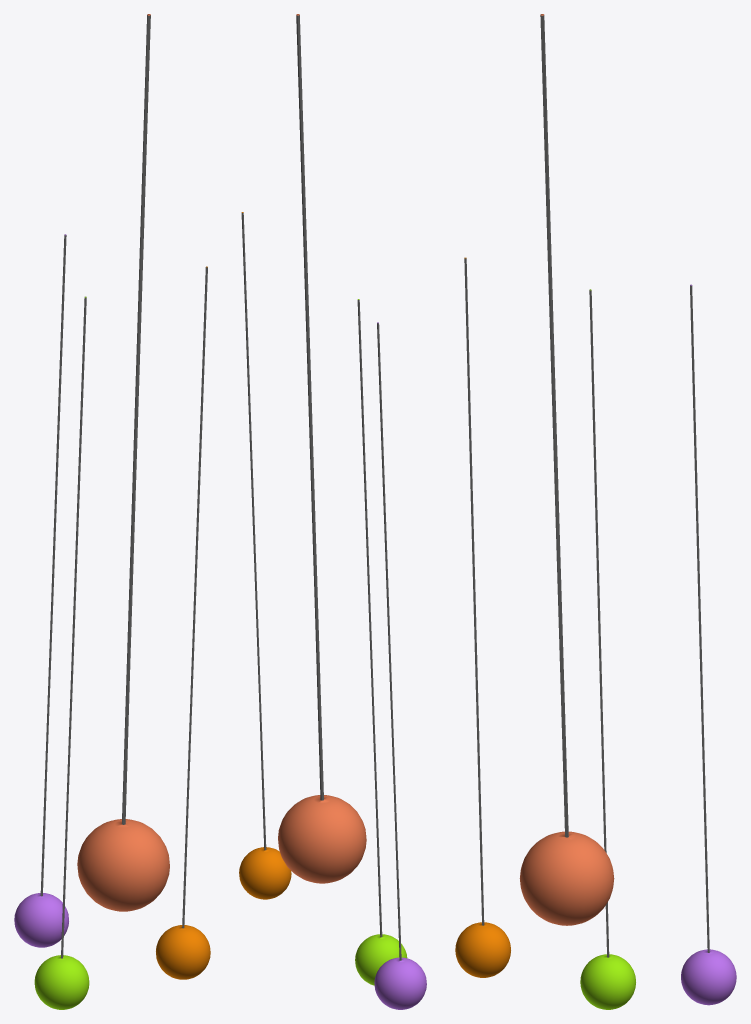
File: Planet2.fbx
3 renders of one model, left to right at view 1: azimuth 30°, elevation 25°; view 2: azimuth 210°, elevation 25°; view 3: azimuth 270°, elevation 25°, orthographic. The views are drawn at different scales.
Parts seen in each view (by area): view 1: Cylinder.008; view 2: Cylinder.008; view 3: Cylinder.008.
Boxes of the visible parts, x1=… form: Cylinder.008: x1=14, y1=14, x2=210, y2=1009; Cylinder.008: x1=239, y1=14, x2=426, y2=1009; Cylinder.008: x1=455, y1=14, x2=736, y2=1009.
Size of the model in its own units: 14510 by 129446 by 32394.
